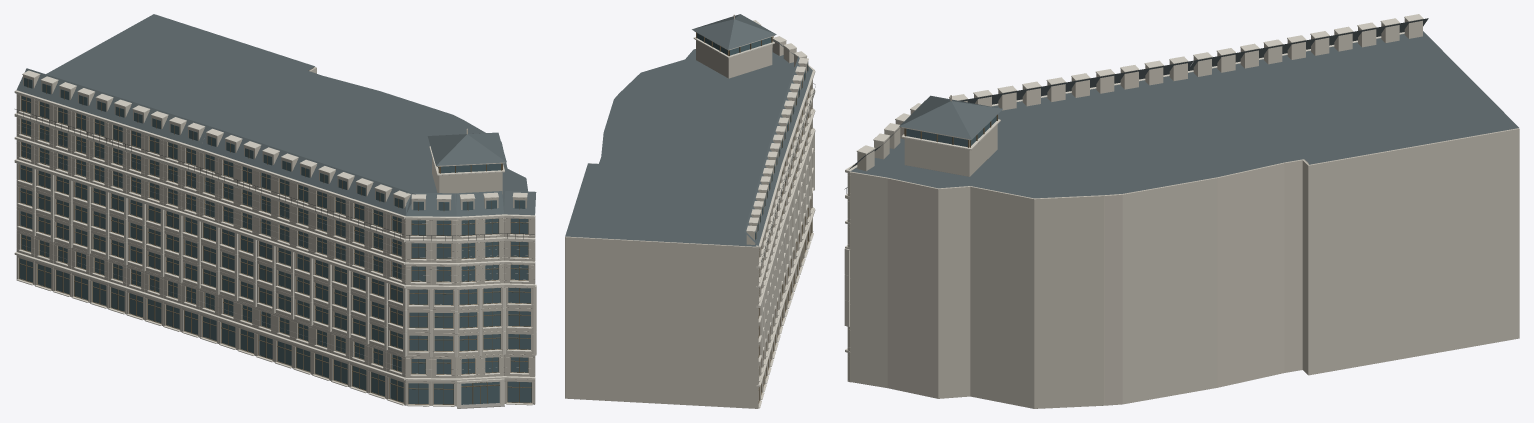
The model's file is 61a-exterior-e90d56871700.glb.
3 renders of one model, left to right at view 1: azimuth 30°, elevation 25°; view 2: azimuth 150°, elevation 25°; view 3: azimuth 270°, elevation 25°, orthographic. The views are drawn at different scales.
Visible parts, largest first — view 1: 61A.001; view 2: 61A.001; view 3: 61A.001.
Boxes of the visible parts, x1,y1,x2,y2 form: 61A.001: (14, 14, 536, 408); 61A.001: (565, 14, 815, 408); 61A.001: (844, 14, 1519, 408).
Bounding box in the file's own units: 51.25 × 38.5 × 85.72.
